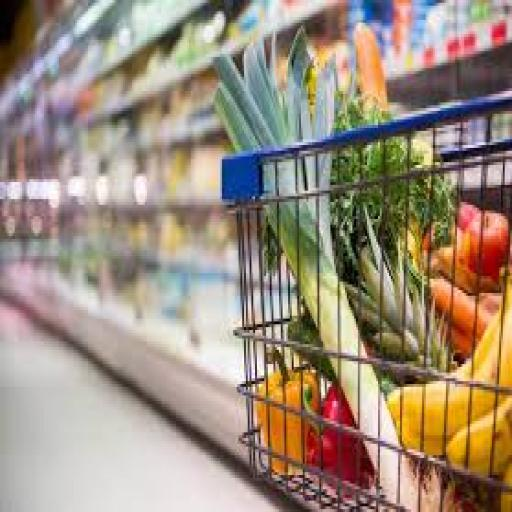shopping_cart: (217, 91, 512, 511)
